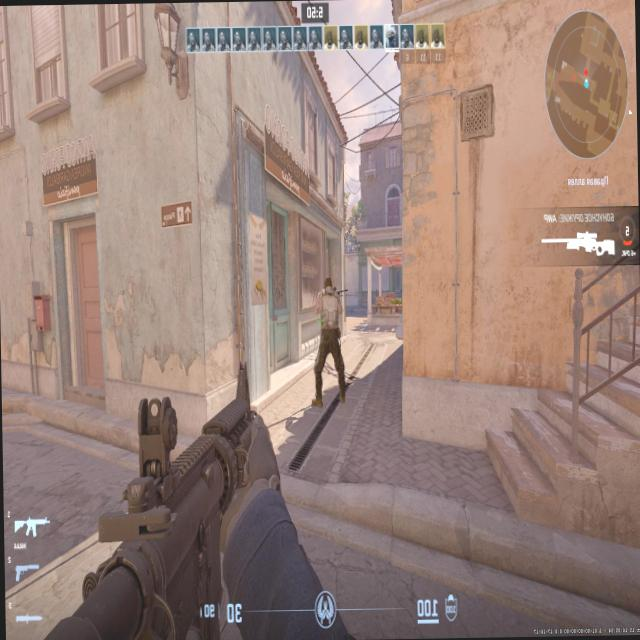T: (312, 280, 342, 412)
T_heat: (324, 280, 330, 293)
